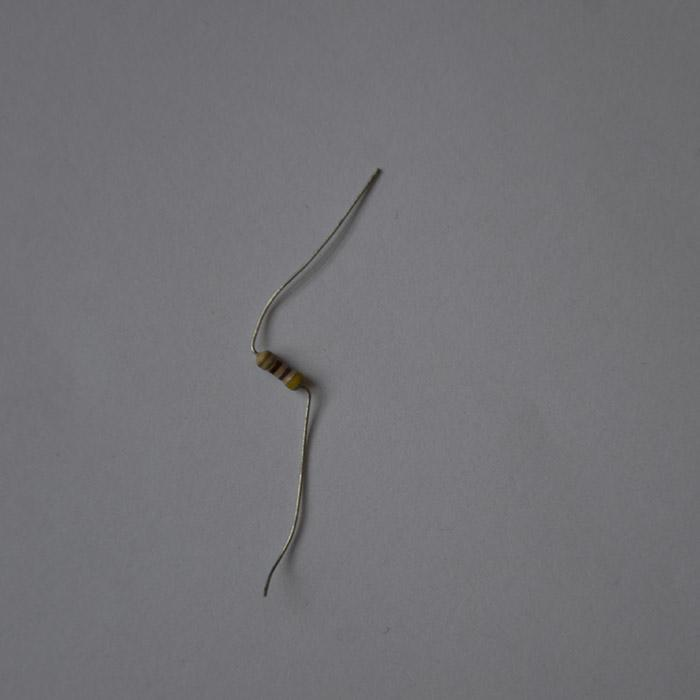resistor: (253, 347, 306, 393)
